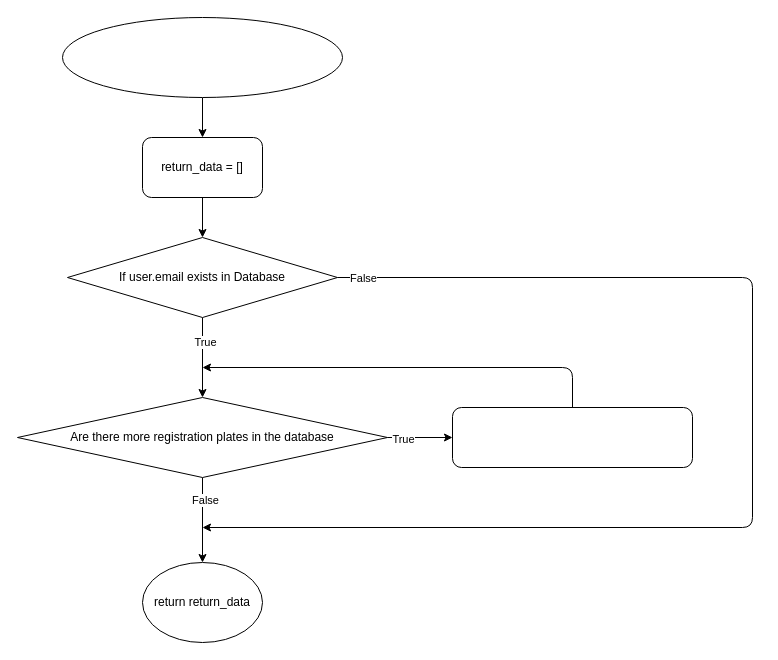
This 778x660 diagram has some shape labels left out. The centre of each missing label's shape, as x and y in pixels:
"get_user_data(user: UserModel)" goes at [202,57].
"return_data.append(registration_plate)" goes at [572,437].
